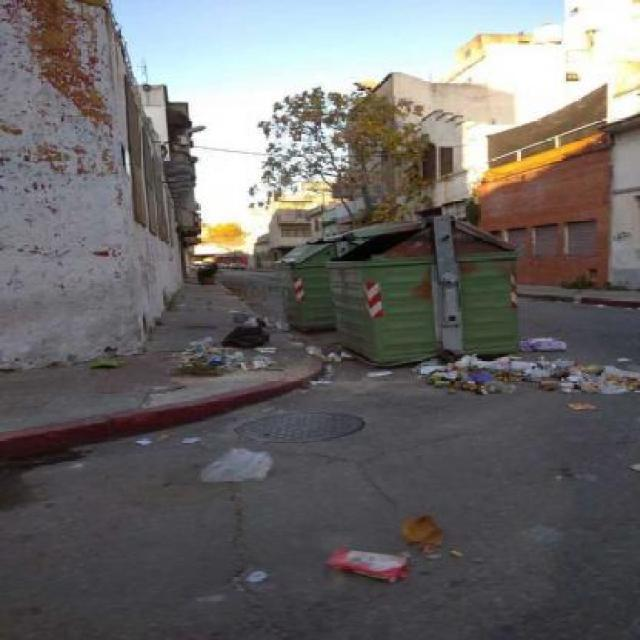garbage: (403, 346, 637, 408), (326, 517, 432, 588), (202, 302, 286, 370), (188, 438, 281, 484), (166, 334, 254, 382), (279, 329, 348, 390), (517, 334, 588, 364), (79, 348, 120, 374)
